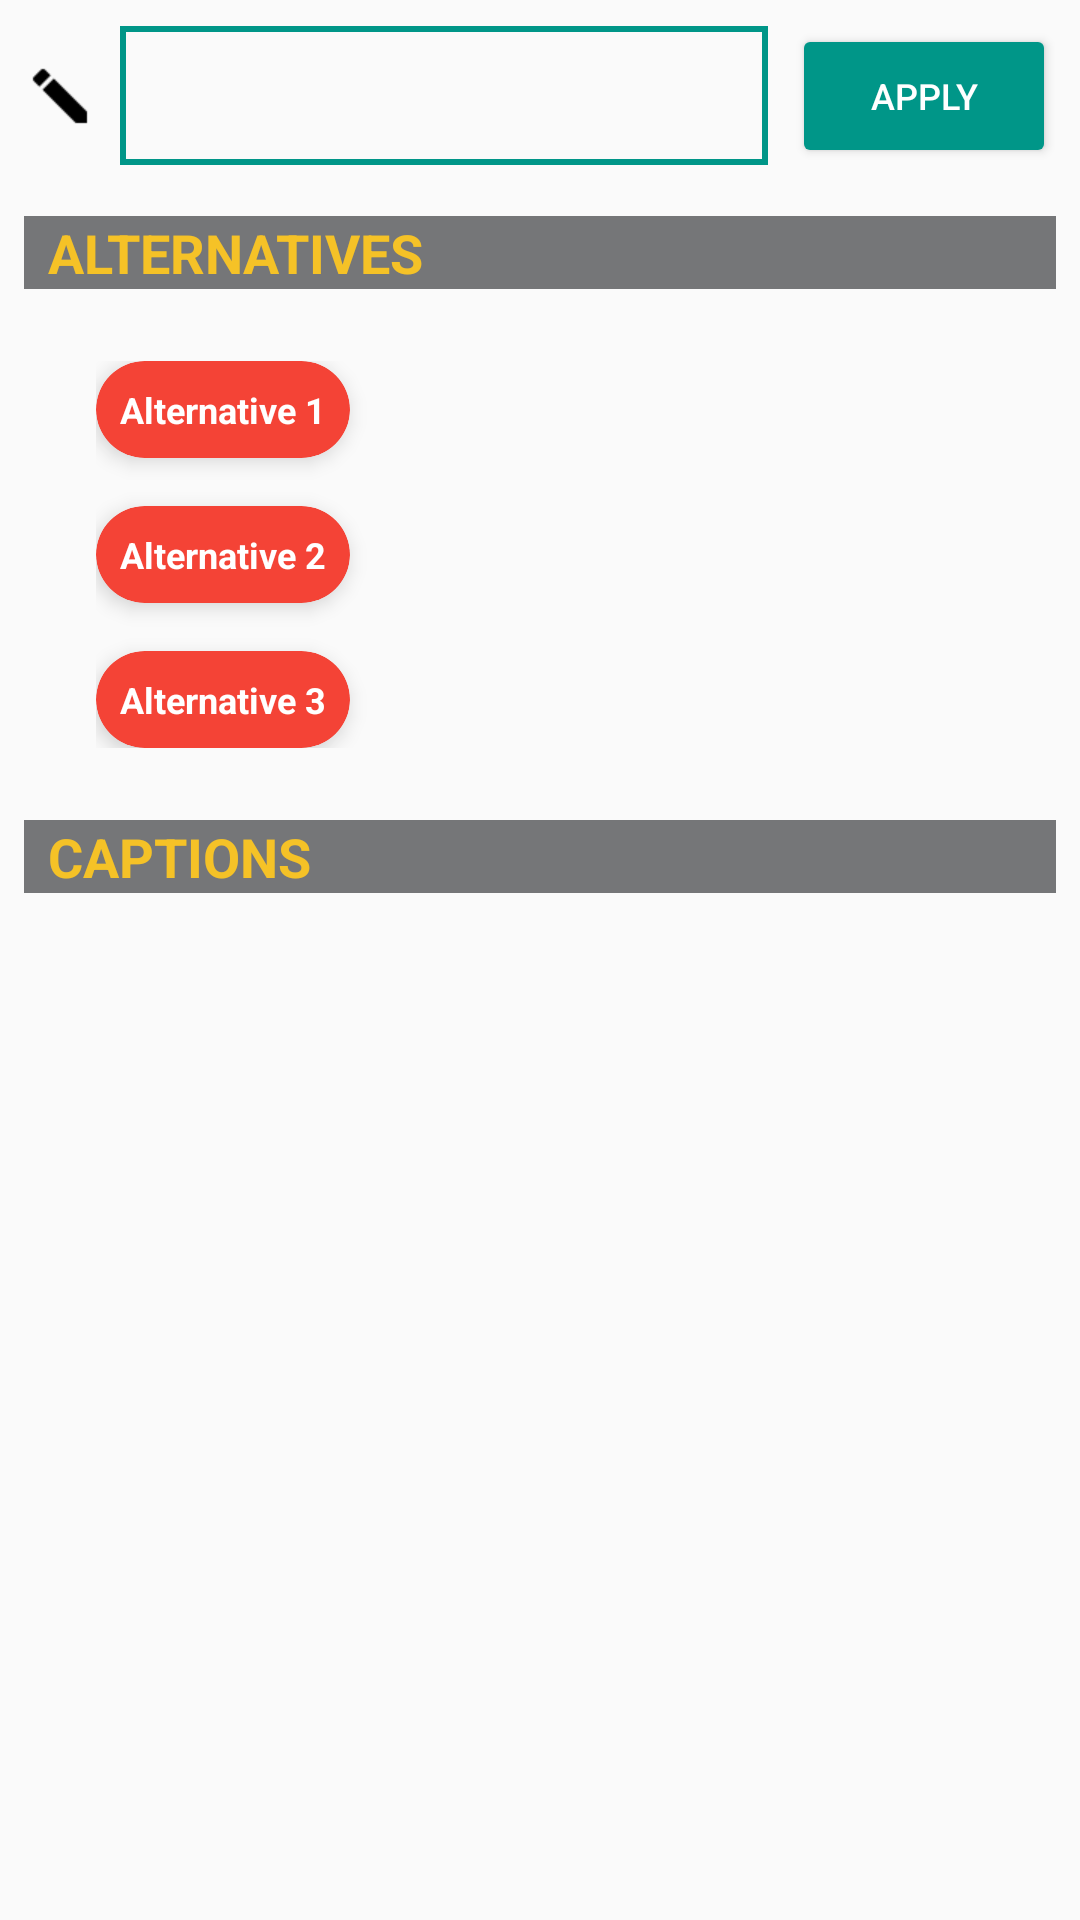

Named icons in this screenshot (1080*1920) and their bounding boxes, [x1,y1,x2,y2]:
edit: [32,68,88,124]
